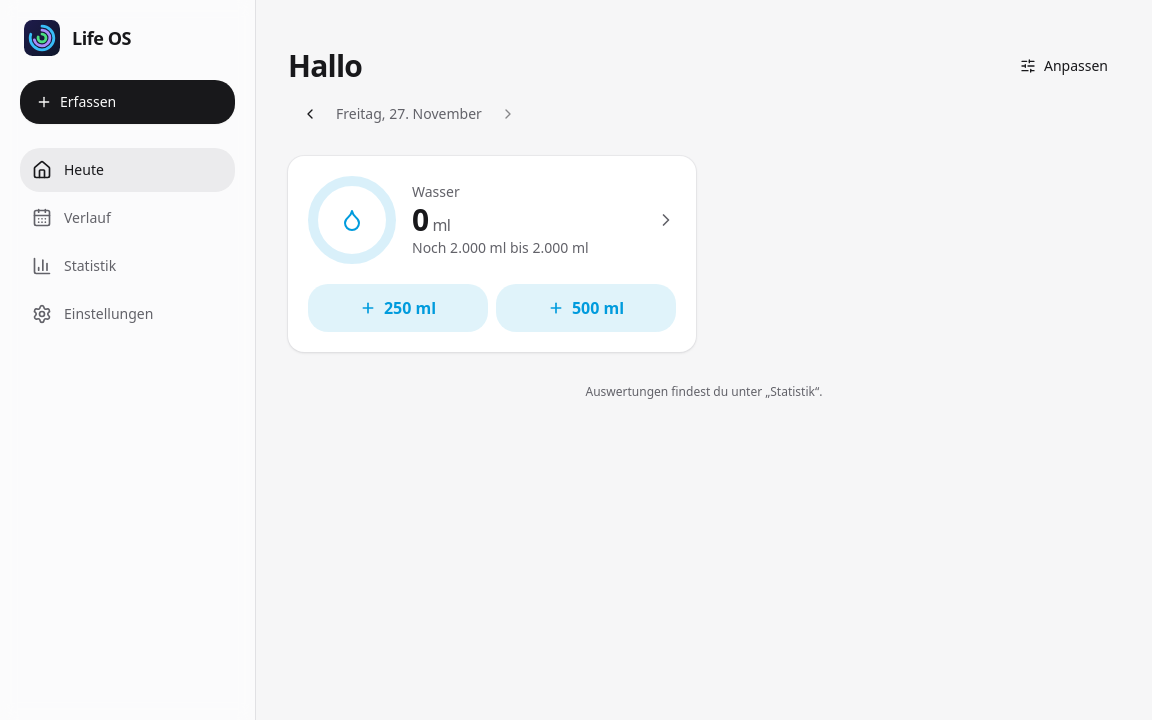
dashboard with water widget › navigates to previous days
The width and height of the screenshot is (1152, 720).
Later steps or results of the test are not shown.
Click the button named "Vorheriger Tag" at x=310, y=114, box [288, 92, 332, 136]
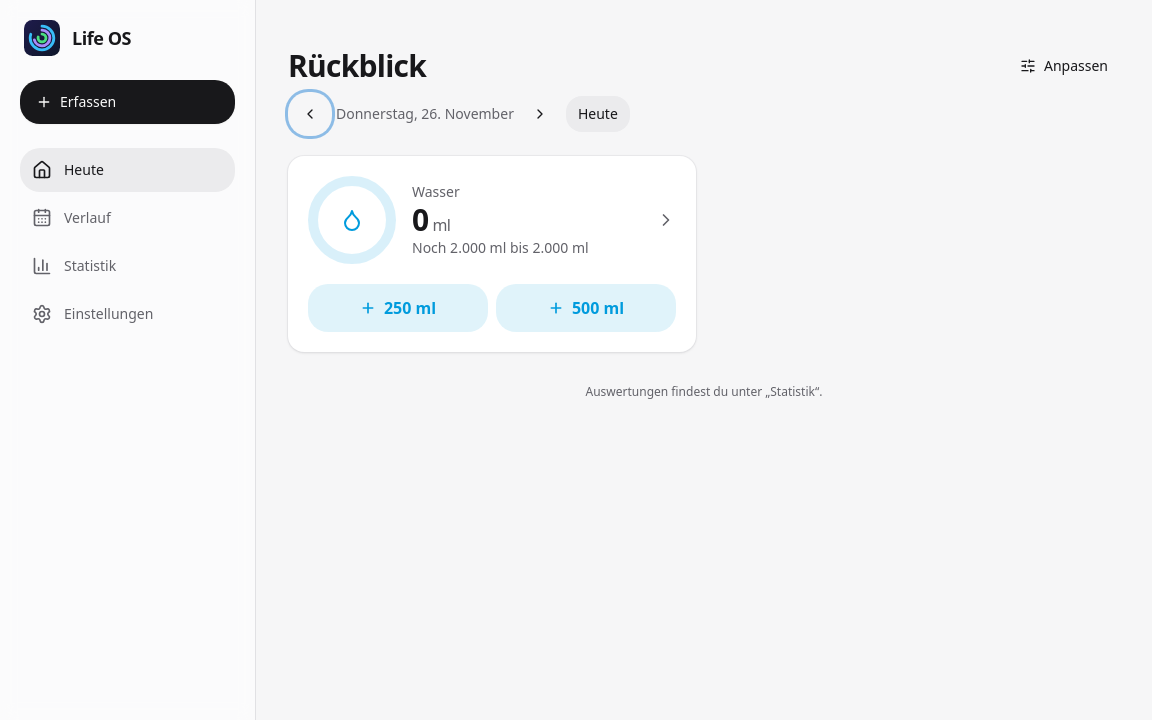
Now the heading "Rückblick" is shown, box [288, 48, 426, 84]
